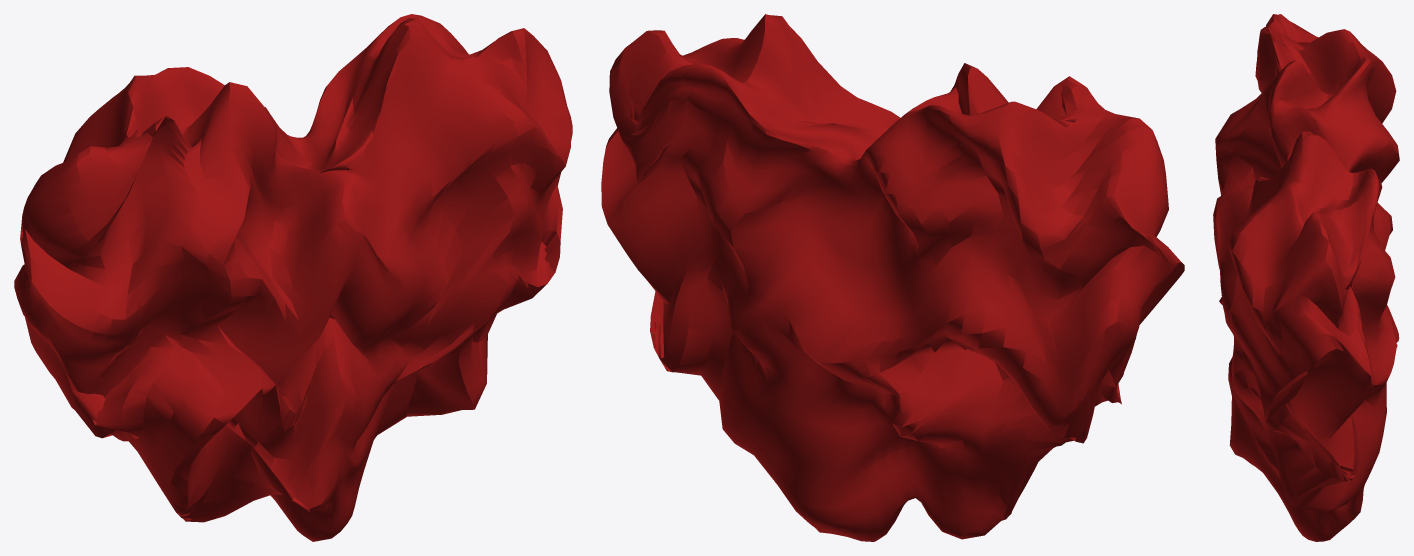
The model's file is 50 heart.obj.
3 views of the same model, side by side, from view 1: azimuth 30°, elevation 25°; view 2: azimuth 150°, elevation 25°; view 3: azimuth 270°, elevation 25° (orthographic). The views are drawn at different scales.
Parts seen in each view (by area): view 1: 000_Heart; view 2: 000_Heart; view 3: 000_Heart.
Part boxes in pixels (box(x1,y1,x2,y2)): 000_Heart: box(14, 14, 572, 541); 000_Heart: box(601, 14, 1184, 541); 000_Heart: box(1213, 14, 1399, 541).
Size of the model in its own units: 277 by 240 by 92.
